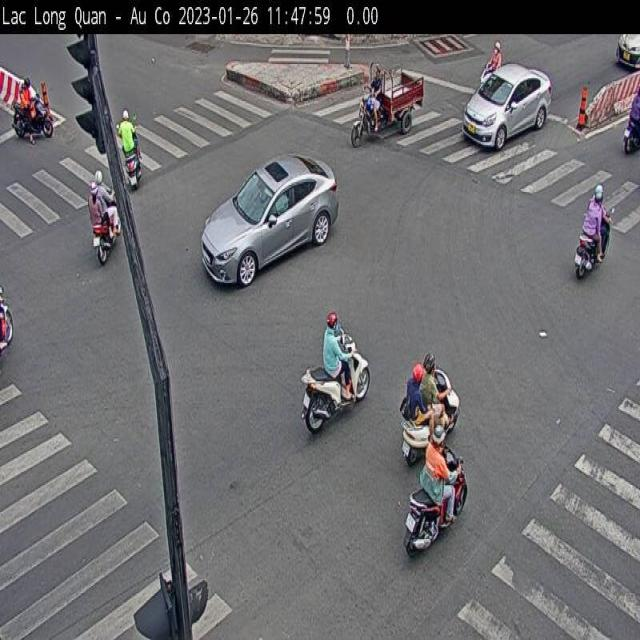with_helmet: (405, 354, 431, 384), (321, 294, 346, 325), (425, 414, 449, 442)
